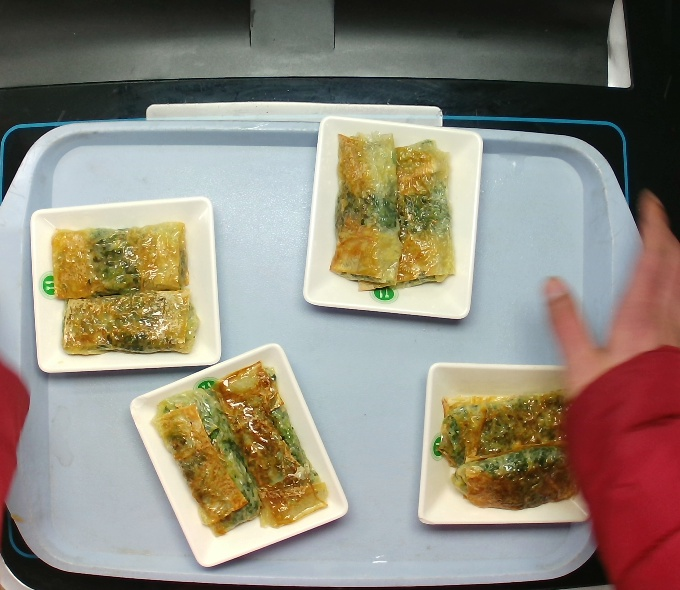wcq-CaiBao: (139, 356, 338, 543), (300, 121, 466, 300), (45, 204, 212, 363), (425, 377, 603, 514)
